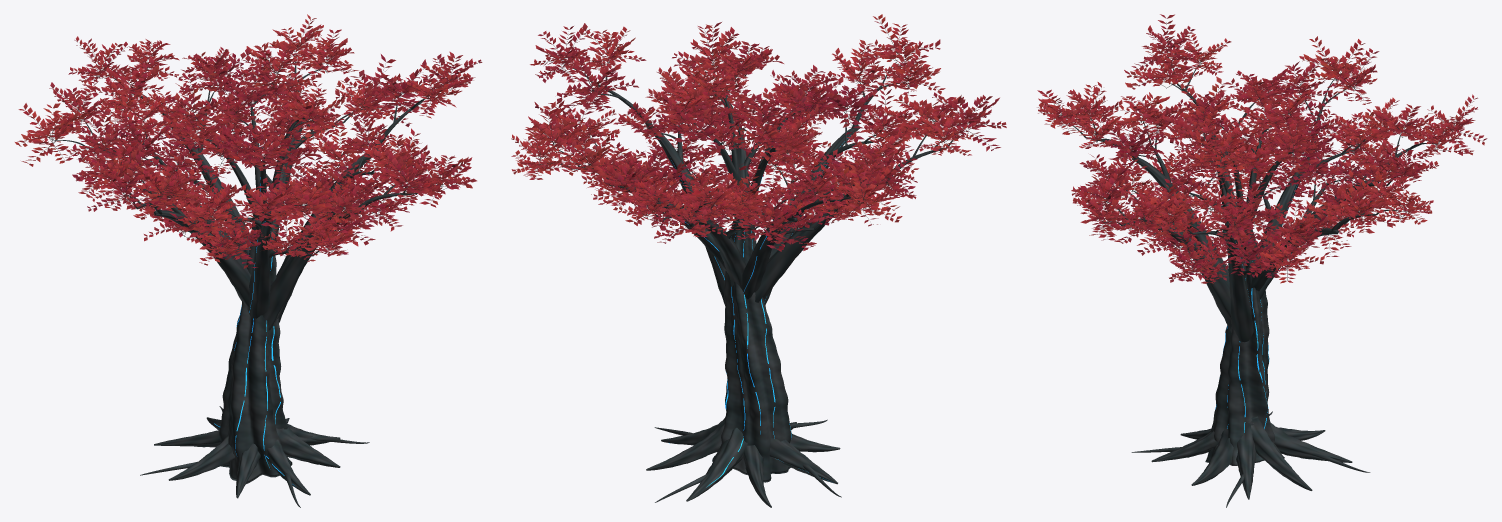
File: crimson_hero_tree_60m_optimized.glb
3 renders of one model, left to right at view 1: azimuth 30°, elevation 25°; view 2: azimuth 150°, elevation 25°; view 3: azimuth 270°, elevation 25°, orthographic. The views are drawn at different scales.
Parts seen in each view (by area): view 1: Crimson_Canopy, Trunk_Roots_Branches, Bioluminescent_Veins; view 2: Crimson_Canopy, Trunk_Roots_Branches, Bioluminescent_Veins; view 3: Crimson_Canopy, Trunk_Roots_Branches.
Boxes of the visible parts, box(x1,y1,x2,y2) form: Crimson_Canopy: box(15, 14, 482, 268); Trunk_Roots_Branches: box(26, 25, 461, 507); Bioluminescent_Veins: box(214, 177, 294, 485); Crimson_Canopy: box(511, 14, 1006, 251); Trunk_Roots_Branches: box(522, 22, 1001, 507); Bioluminescent_Veins: box(669, 135, 850, 487); Crimson_Canopy: box(1037, 14, 1487, 283); Trunk_Roots_Branches: box(1042, 22, 1477, 507).
Size of the model in its own units: 70.62 by 61.59 by 68.52.
